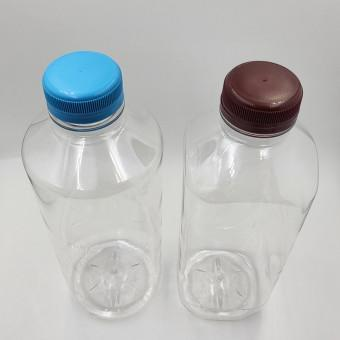bottle: (20, 51, 165, 319), (179, 58, 318, 322)
